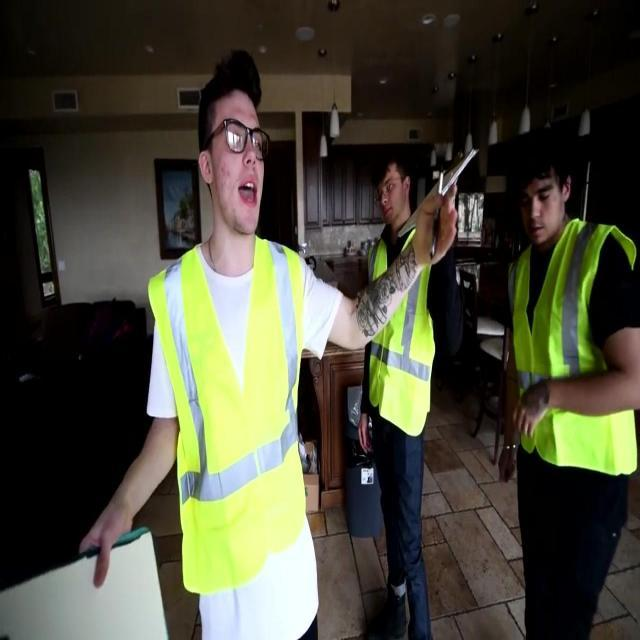NoHelmet: (191, 54, 281, 233)
Vest: (144, 236, 320, 573)
